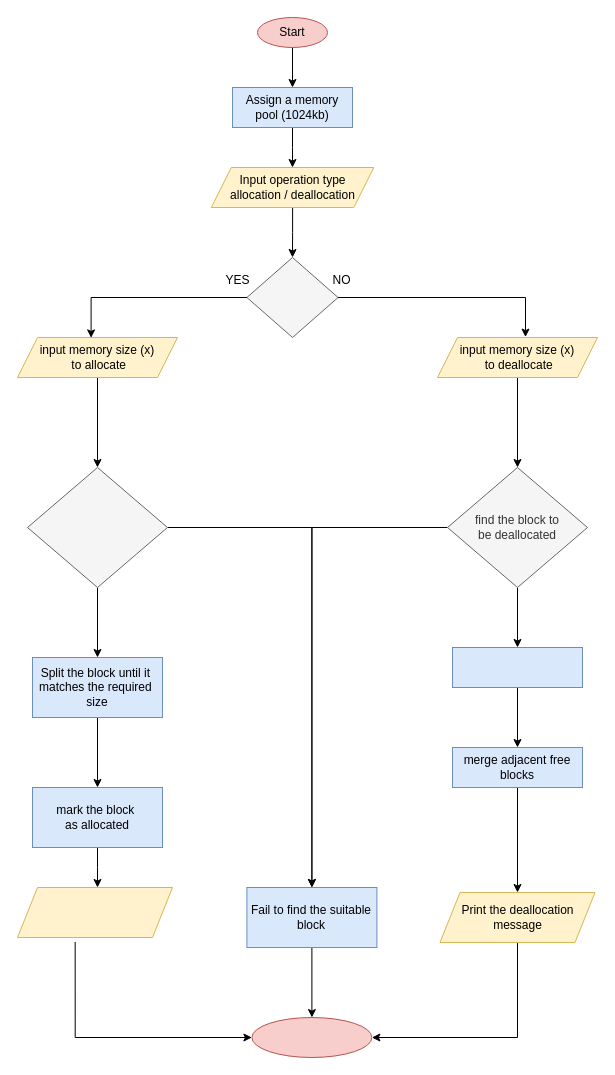
This 615x1075 diagram has some shape labels left out. The shapes that lost their labels are listed below. From the top down, each one's box as (x1, y1, x2, y2) in pixels, then its label:
(246, 256, 338, 338): If allocation?
(26, 466, 168, 588): find the suitable free block
(452, 646, 582, 688): Mark the block as free
(16, 886, 172, 938): Print the allocation message
(251, 1016, 372, 1058): END
